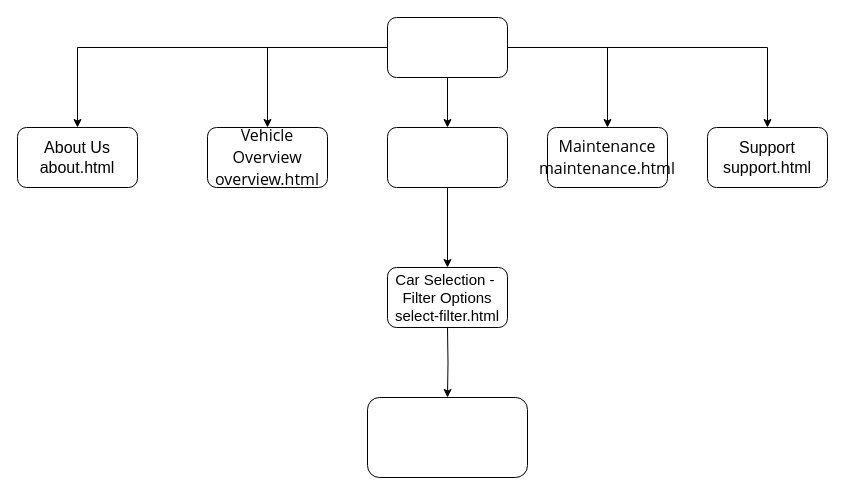
Some shapes in this 845 by 498 pixel diagram are drawn without their labels. The centre of each missing label's shape, as x and y in pixels:
"Car Selection – Input Preference select-input.html" goes at (447,157).
"Car Selection – Recommended Results select-results.html" goes at (447,437).
"Homepage index.html" goes at (447,47).
